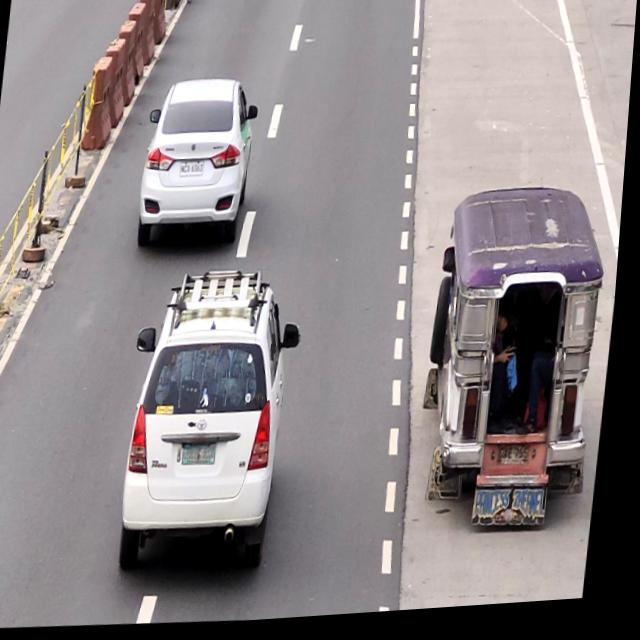Car: (126, 270, 299, 574), (140, 71, 258, 247)
Jeep: (422, 192, 617, 541)
License-Plate: (185, 439, 227, 474), (503, 447, 538, 475), (180, 160, 207, 182)
